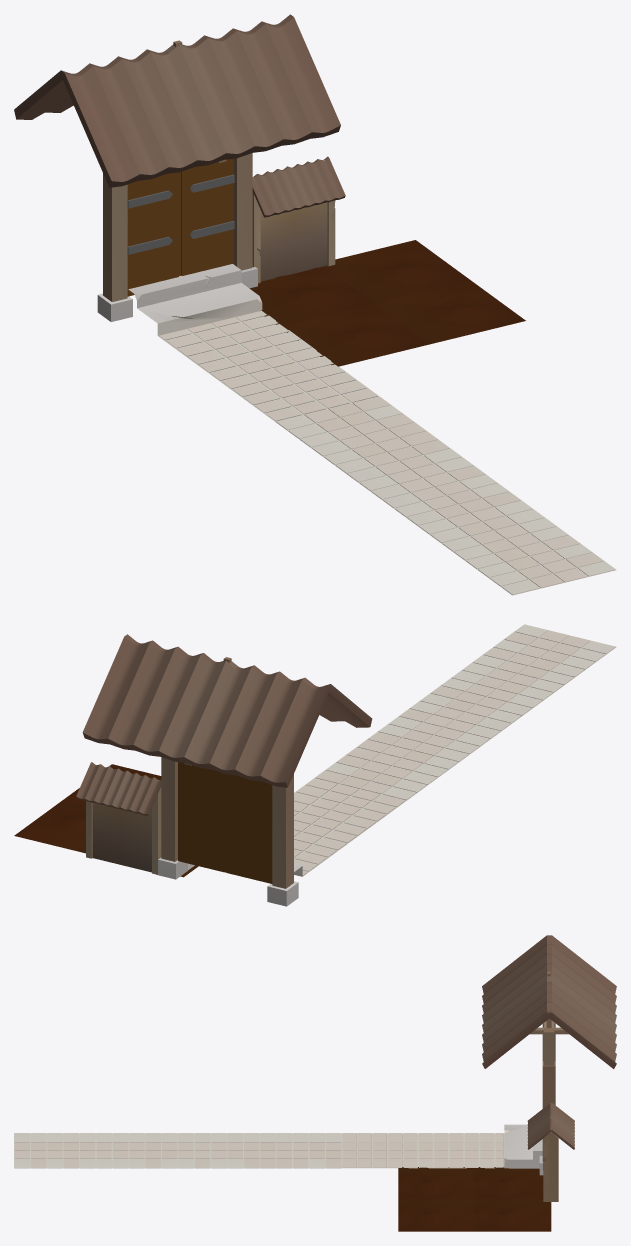
File: TestScenemodels.fbx
3 renders of one model, top to bottom at view 1: azimuth 30°, elevation 25°; view 2: azimuth 150°, elevation 25°; view 3: azimuth 270°, elevation 25°, orthographic. The views are drawn at different scales.
Visible parts, largest first — view 1: Entrance, Ground, Wall; view 2: Entrance, Wall, Ground; view 3: Entrance, Ground, Wall.
Boxes of the visible parts, x1=… form: Entrance: x1=14, y1=14, x2=616, y2=595; Ground: x1=249, y1=240, x2=525, y2=366; Wall: x1=252, y1=156, x2=345, y2=283; Entrance: x1=82, y1=624, x2=616, y2=906; Wall: x1=76, y1=762, x2=161, y2=874; Ground: x1=14, y1=764, x2=198, y2=877; Entrance: x1=14, y1=935, x2=616, y2=1175; Ground: x1=398, y1=1167, x2=551, y2=1231; Wall: x1=527, y1=1103, x2=574, y2=1201.
Bounding box in the file's own units: 1576 × 739 × 516.
Materials: 1 (1 with a texture image).
